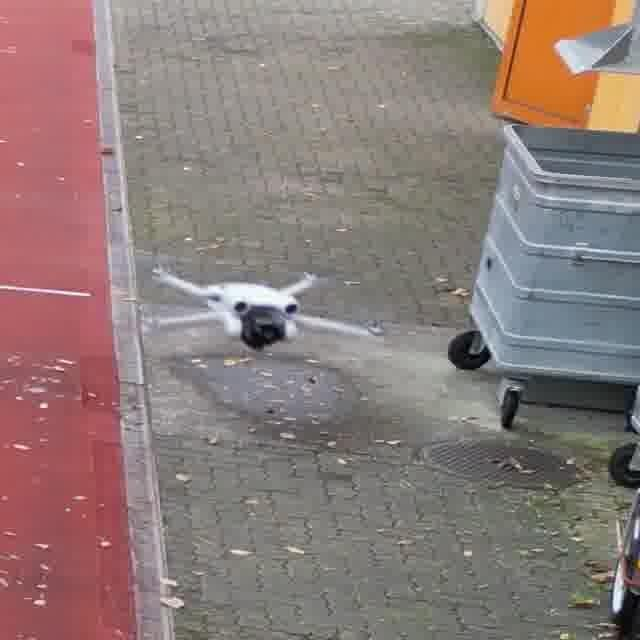Drohne: (151, 267, 383, 350)
